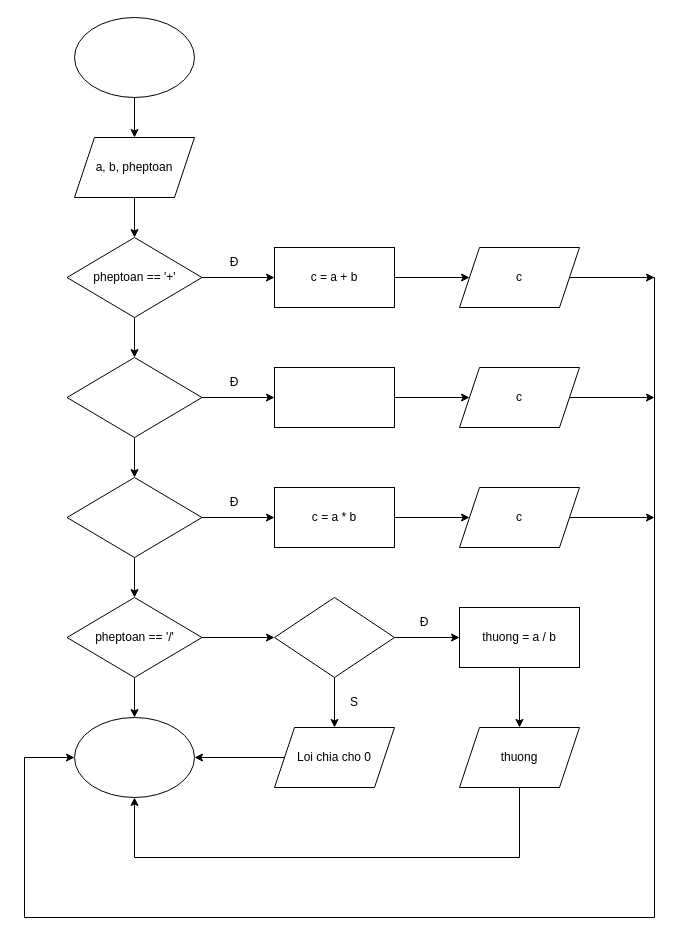
Image size: 680x943. Some labels were removed from this diagram. Here are the shapes that lost their labels. From the top down, the box of each, then its label:
(74, 16, 194, 98): BĐ
(66, 356, 202, 438): pheptoan == '-'
(274, 366, 394, 428): c = a - b
(66, 476, 202, 558): pheptoan == '*'
(274, 596, 394, 678): b != 0
(74, 716, 194, 798): KT
